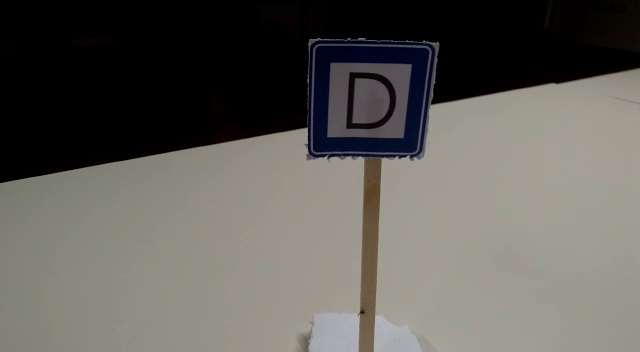durak: (309, 40, 435, 157)
